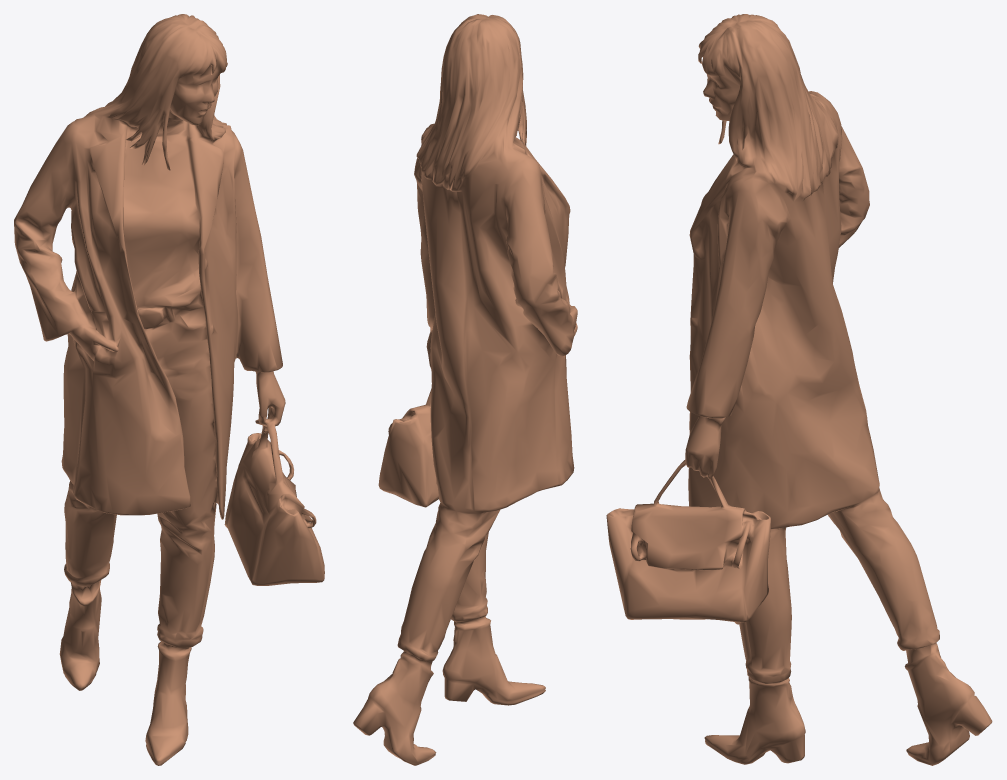
The model's file is char_marina.glb.
The picture shows the model from 3 angles, left to right: view 1: azimuth 30°, elevation 25°; view 2: azimuth 150°, elevation 25°; view 3: azimuth 270°, elevation 25°; orthographic projection. The views are drawn at different scales.
Parts seen in each view (by area): view 1: Marina_1276_COR; view 2: Marina_1276_COR; view 3: Marina_1276_COR.
Boxes of the visible parts, box(x1,y1,x2,y2) form: Marina_1276_COR: box(14, 14, 324, 765); Marina_1276_COR: box(353, 14, 577, 765); Marina_1276_COR: box(606, 14, 992, 765).
Size of the model in its own units: 0.5973 by 1.75 by 0.8195.
